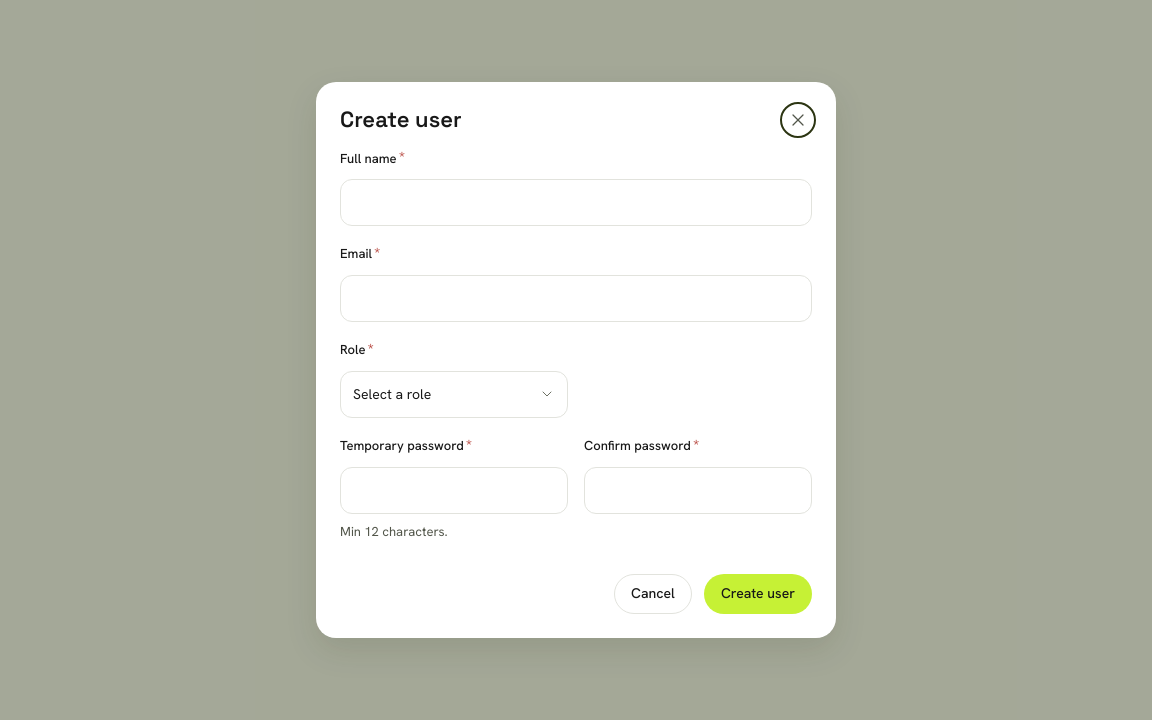
Test case: UserFormModal — MDA is chosen per role › hides the MDA field until an MDA-scoped role is chosen
The image size is (1152, 720).
Check: the field labelled "MDA" is not shown
Select "MDA Admin" in the dropdown labelled "Role" at (454, 394), box top-left (340, 371), bottom-right (568, 418)
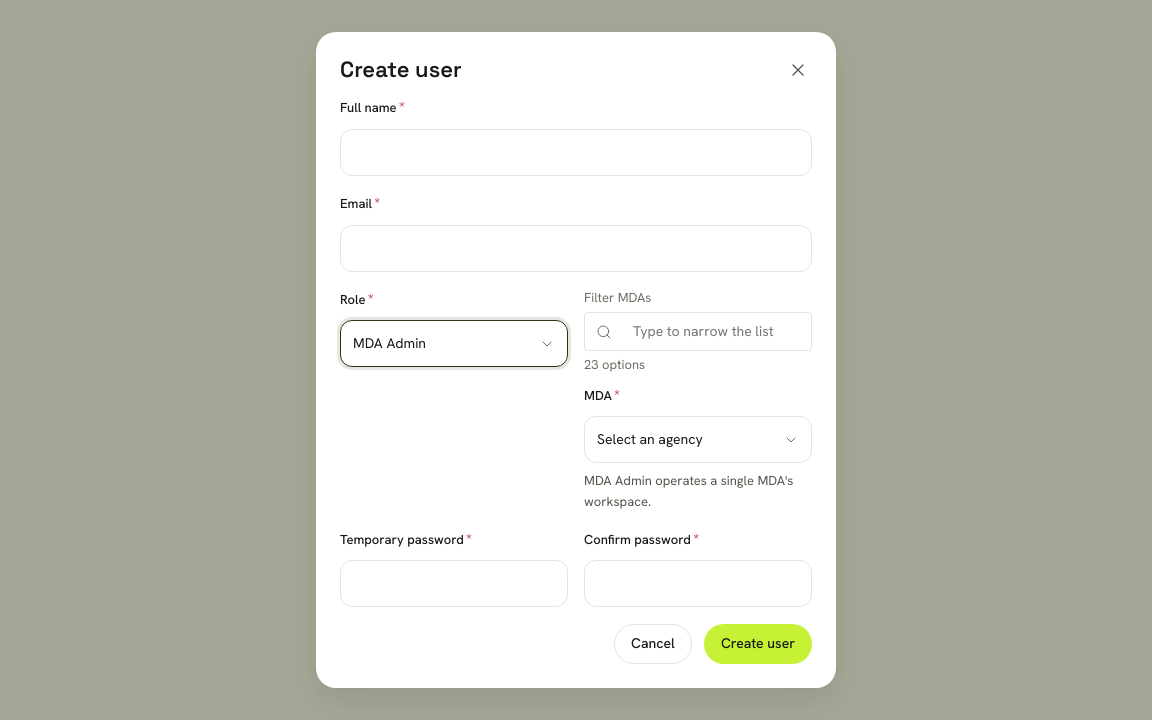
Check: the dropdown labelled "MDA" is shown, box top-left (584, 416), bottom-right (812, 463)
